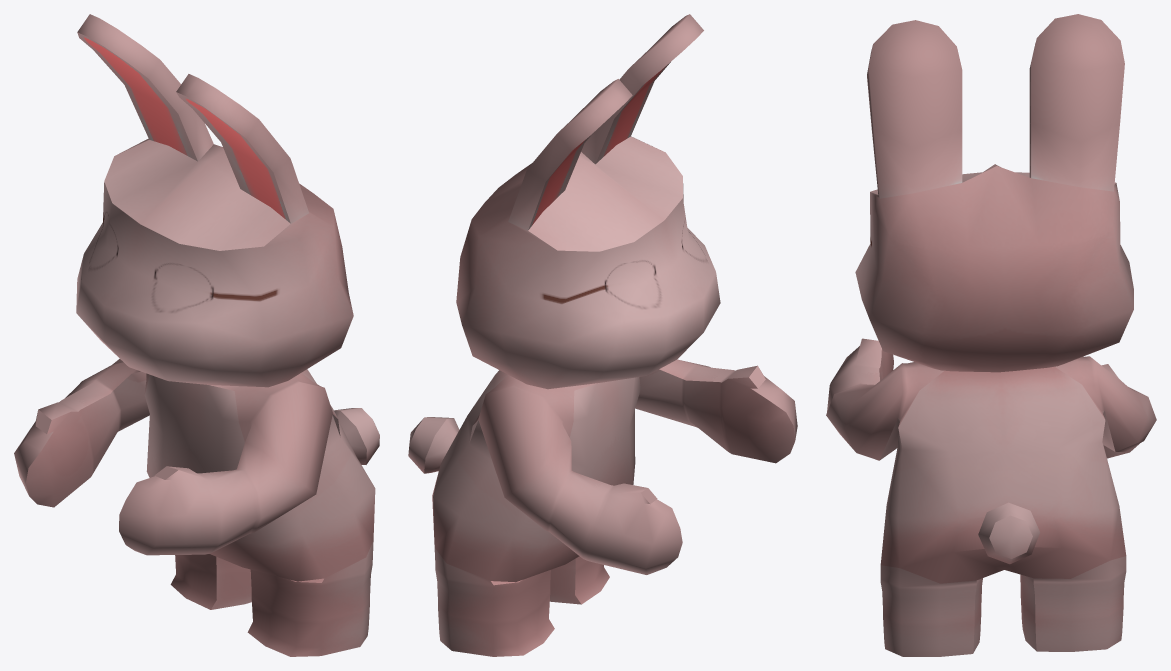
3 views of the same model, side by side, from view 1: azimuth 30°, elevation 25°; view 2: azimuth 150°, elevation 25°; view 3: azimuth 270°, elevation 25° (orthographic). The views are drawn at different scales.
Visible parts, largest first — view 1: Rb_R_S2; view 2: Rb_R_S2; view 3: Rb_R_S2.
Boxes of the visible parts, x1=… form: Rb_R_S2: x1=14, y1=14, x2=379, y2=656; Rb_R_S2: x1=408, y1=14, x2=797, y2=656; Rb_R_S2: x1=826, y1=14, x2=1156, y2=656.
Bounding box in the file's own units: 3.67 × 6.41 × 3.42.
